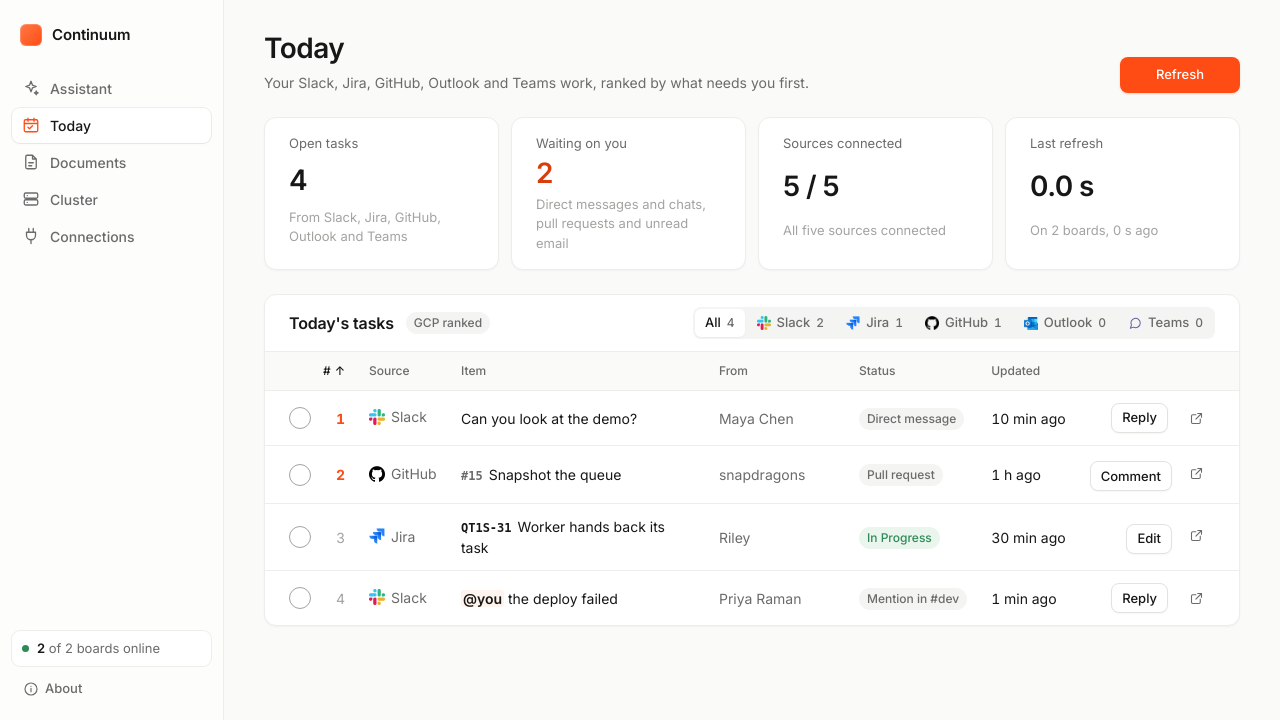
Test: Today refresh › shows what the boards loaded, and does not ask the sources for their lists again
This screenshot has width=1280, height=720.
Expected: the row "Worker hands back its task" is shown, [265,504,1239,571]
What coordinates should you click on to do the following:
click the button "Refresh"
I would click on:
 (1180, 75)
Its box is [1120,57,1240,93].
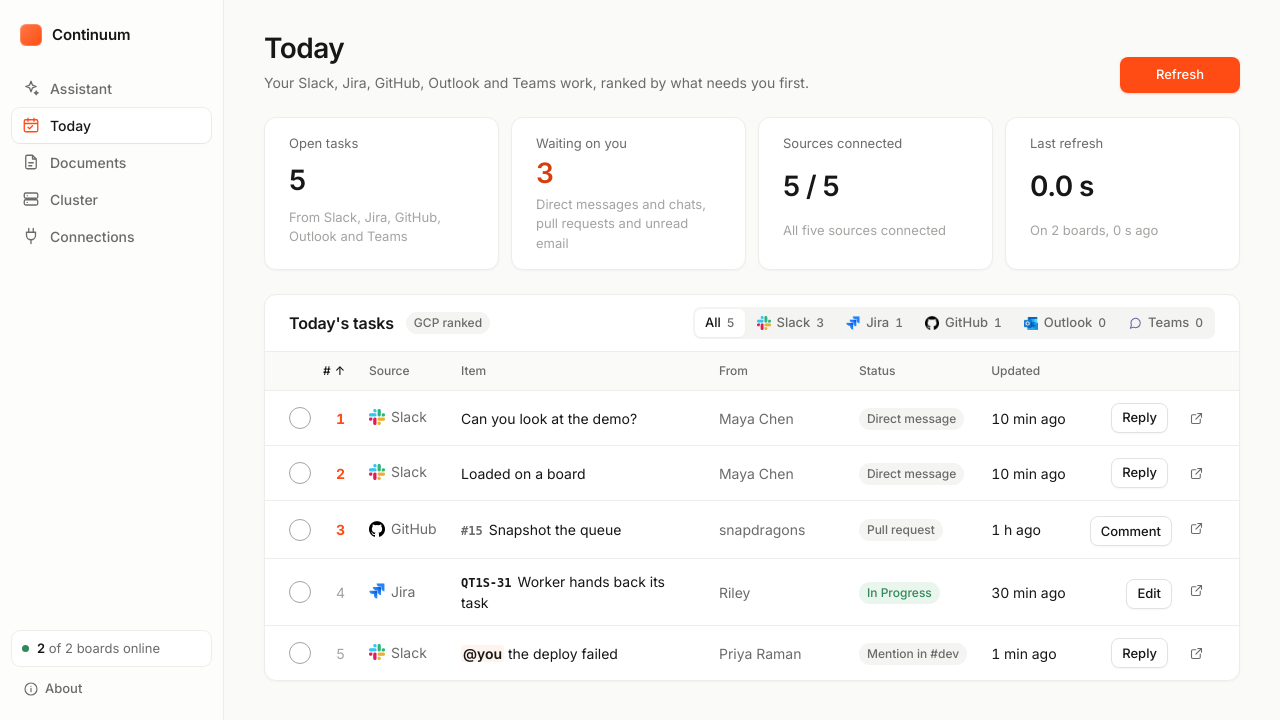
Expected: the row "Loaded on a board" is shown, [265,446,1239,501]
